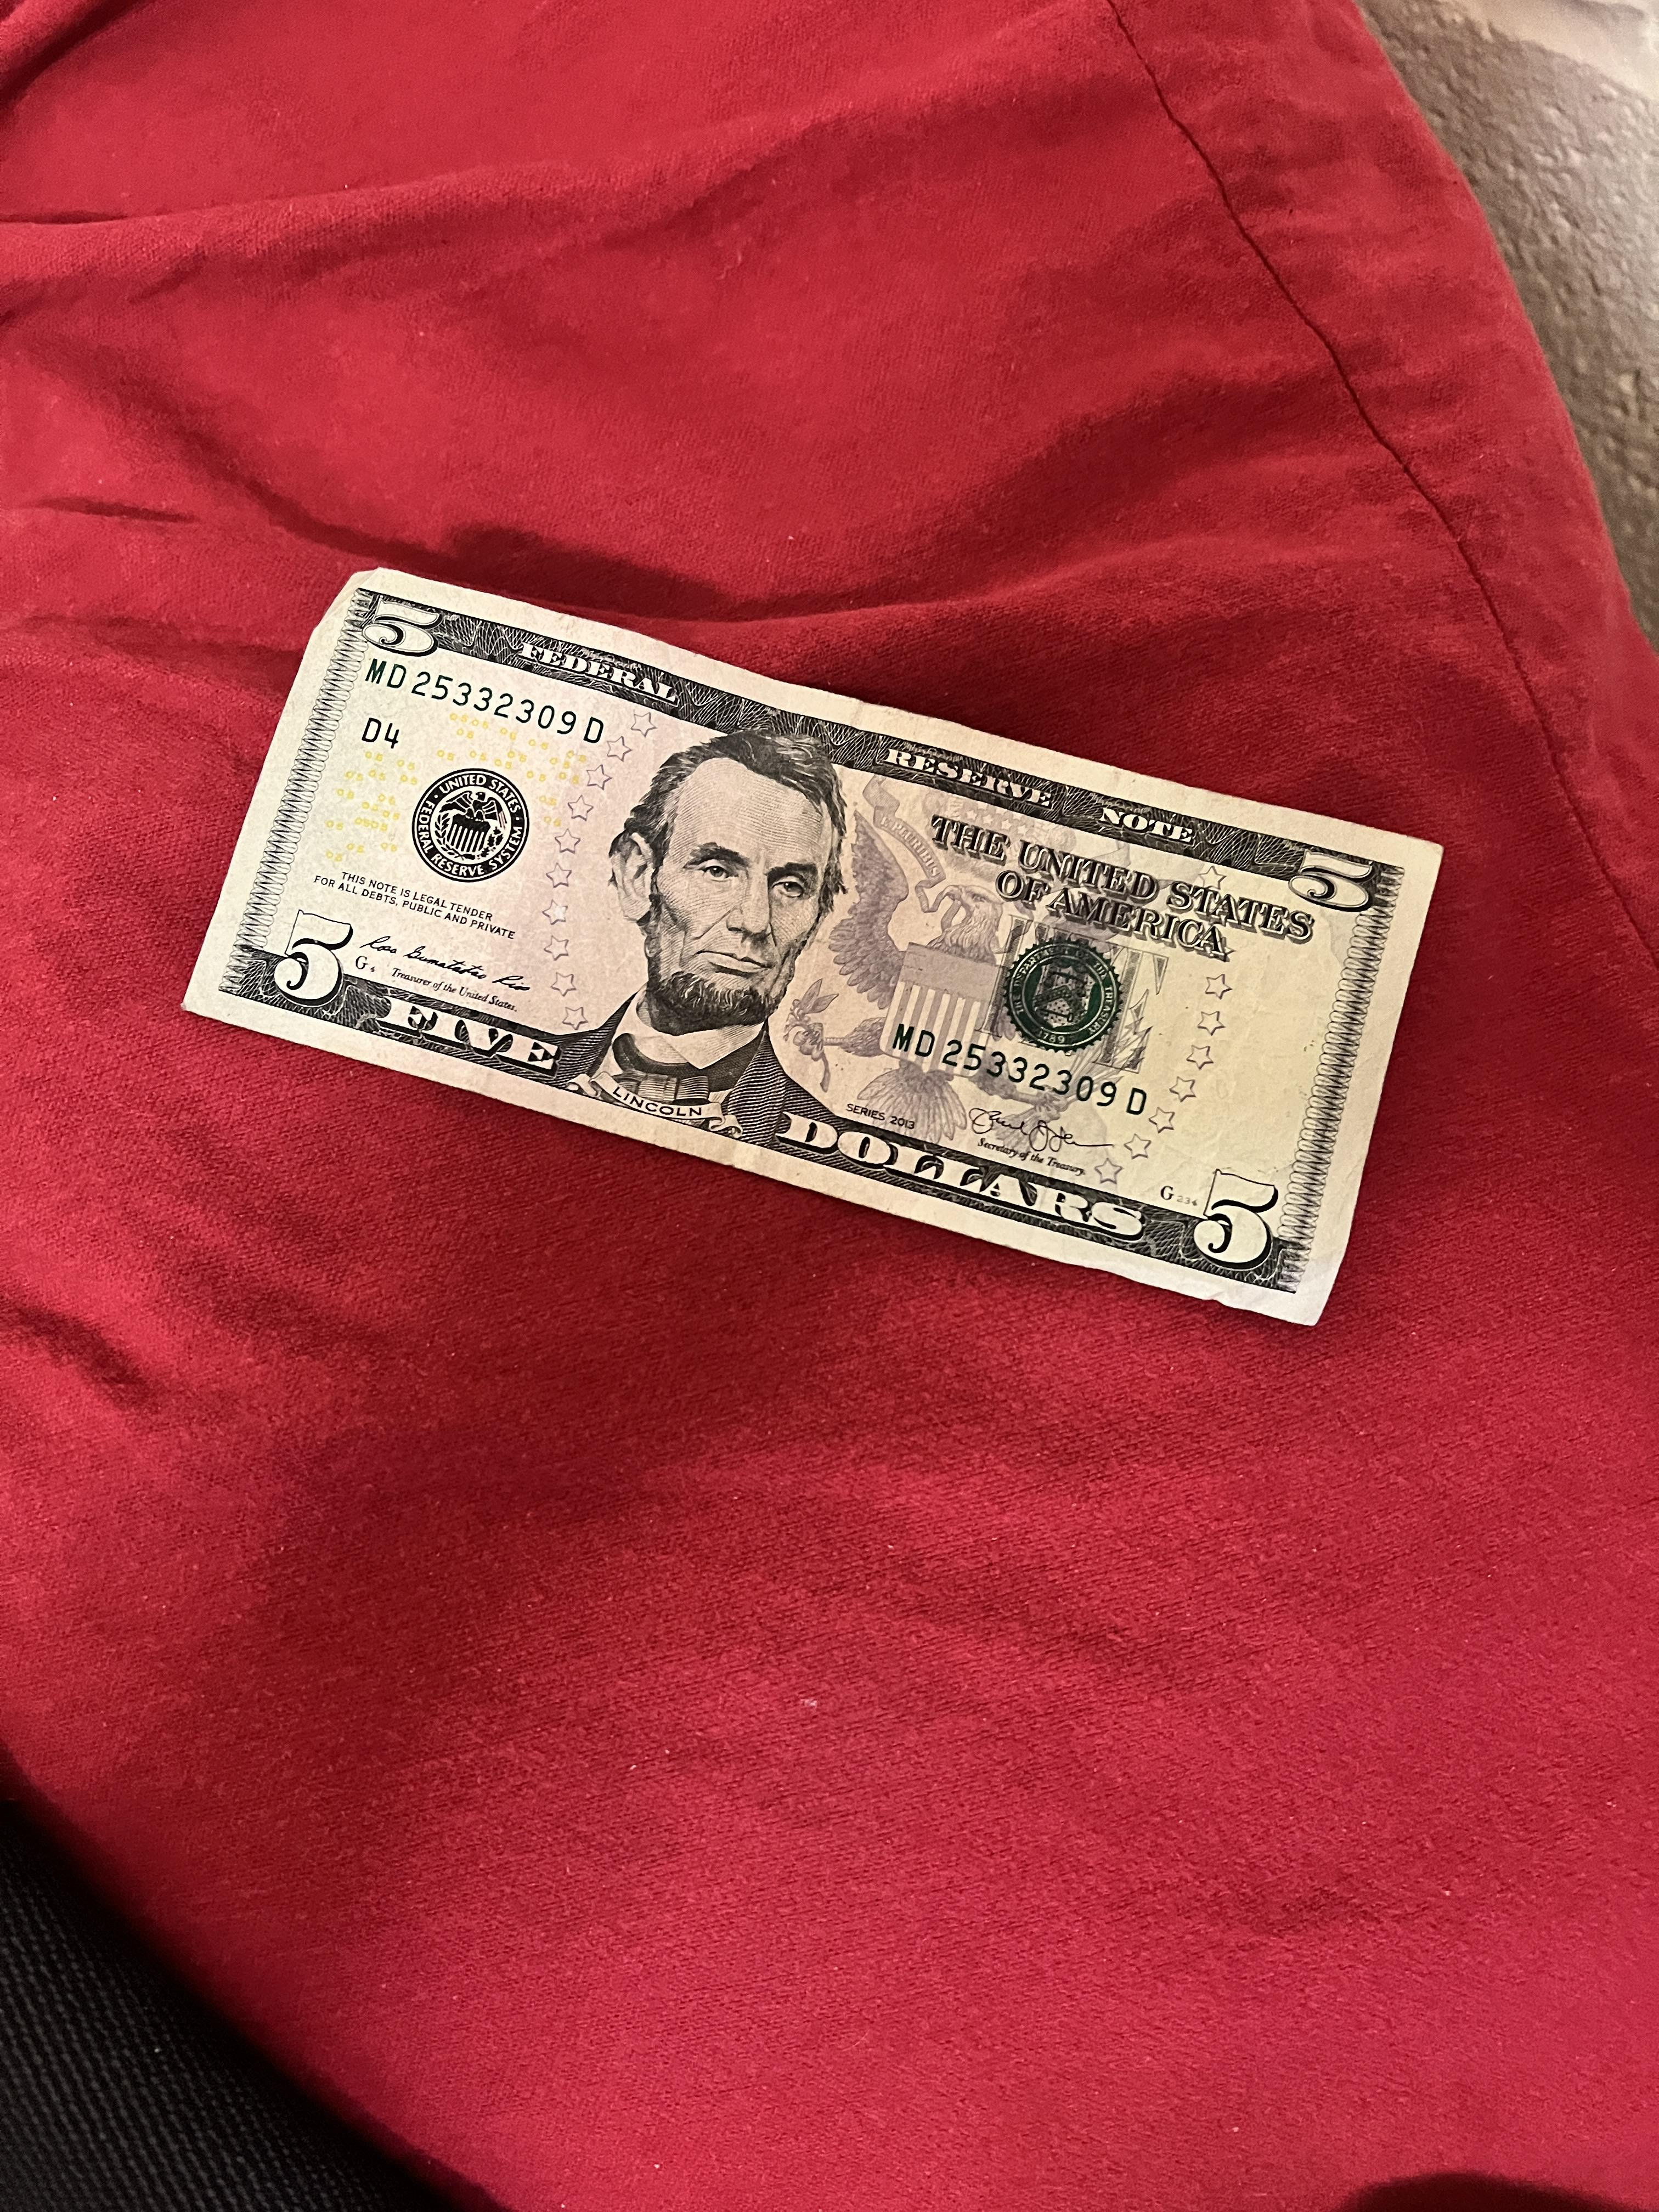FiveBill: (186, 554, 1434, 1350)
